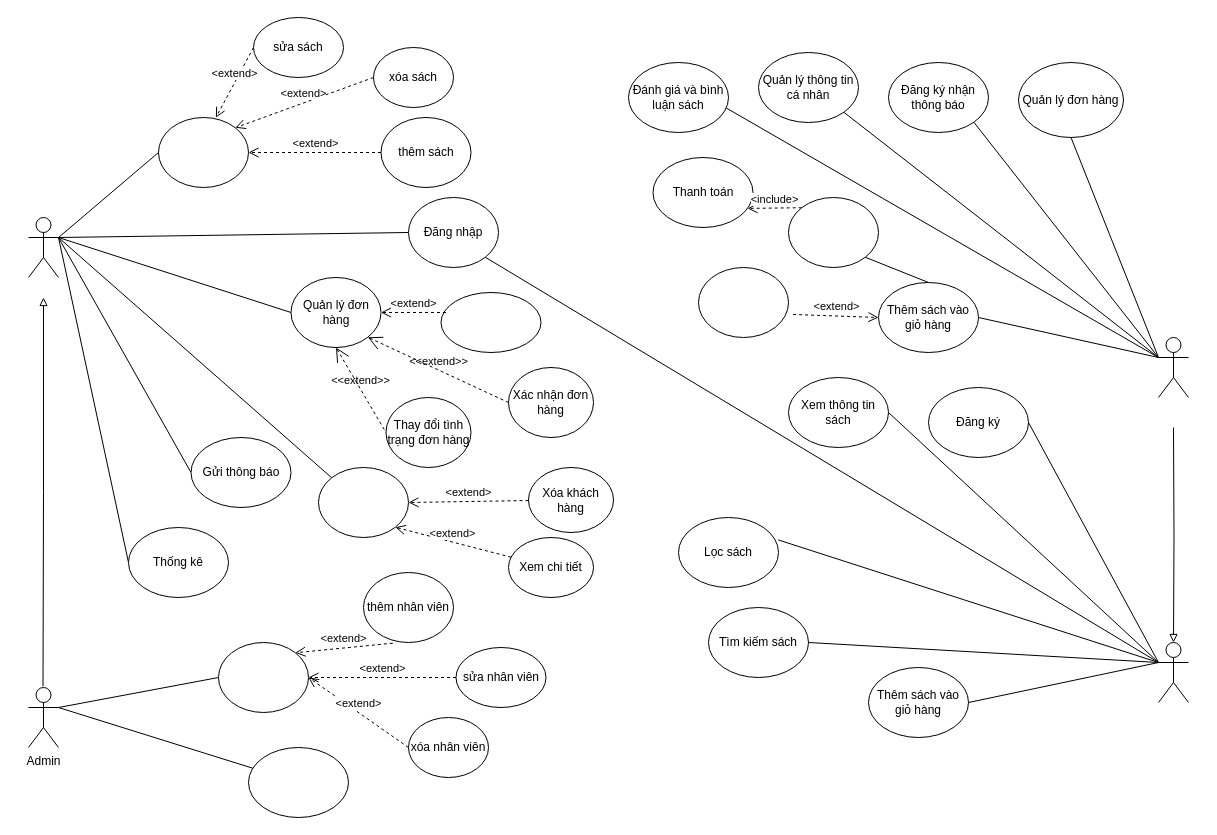
This 1217x835 diagram has some shape labels left out. The centre of each missing label's shape, as x and y in pixels:
Chỉnh sửa giỏ hàng: point (743, 302)
Customer: point (1173, 367)
Employee: point (43, 247)
Guest: point (1173, 672)
Mua sách: point (833, 232)
Quản lý khách hàng: point (363, 502)
Quản lý nhân viên: point (263, 677)
Quản lý sách: point (203, 152)
Xem chi tiết đơn hàng: point (490, 322)
Xem thống kê: point (298, 782)
